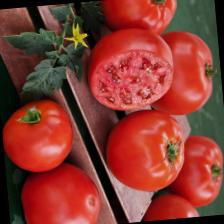tomato: (82, 26, 176, 114), (101, 106, 188, 196), (140, 28, 220, 119), (0, 96, 76, 176), (16, 159, 102, 224), (161, 132, 224, 209), (96, 0, 179, 42)
